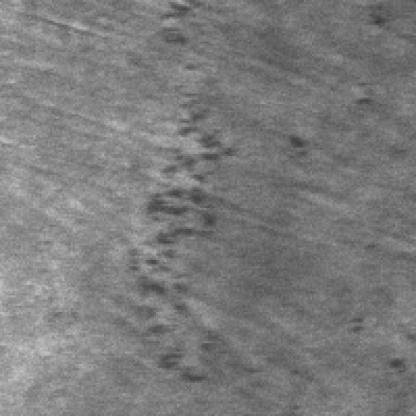rolled-in_scale: (127, 72, 254, 400)
